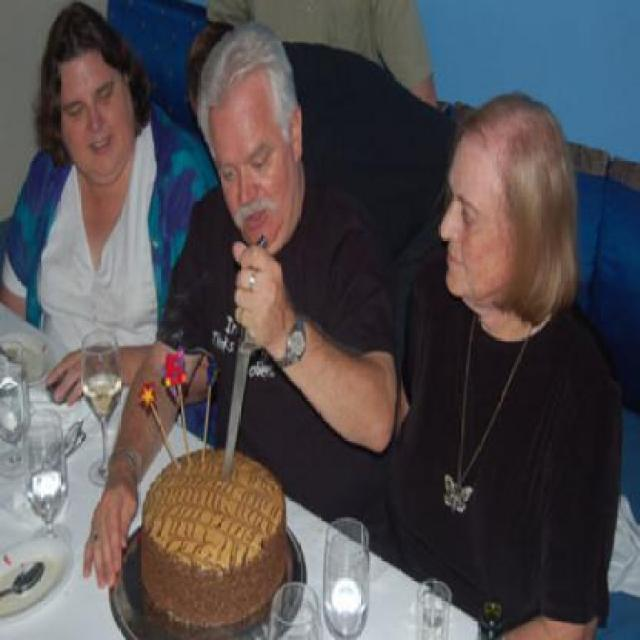Cake: (140, 449, 289, 629)
